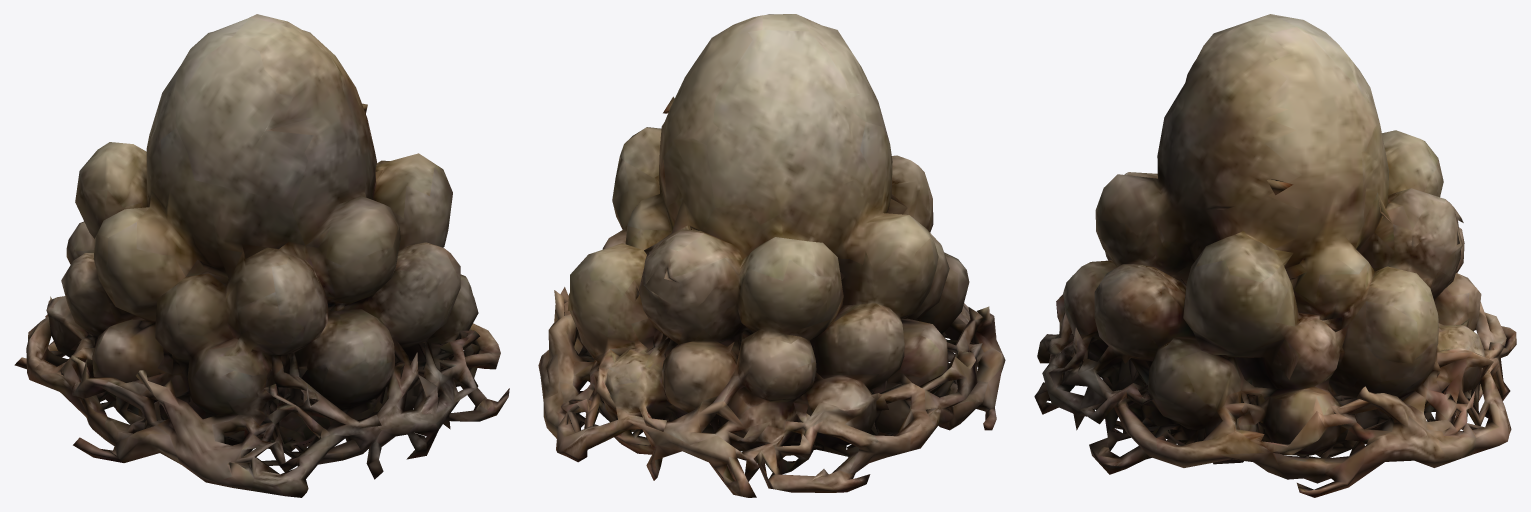
The model's file is p_eggs.glb.
3 views of the same model, side by side, from view 1: azimuth 30°, elevation 25°; view 2: azimuth 150°, elevation 25°; view 3: azimuth 270°, elevation 25° (orthographic).
Visible parts, largest first — view 1: tripo_node_46782ae6-7911-4fb5-8575-c17d8e8be9b3; view 2: tripo_node_46782ae6-7911-4fb5-8575-c17d8e8be9b3; view 3: tripo_node_46782ae6-7911-4fb5-8575-c17d8e8be9b3.
Boxes of the visible parts, <box> form: tripo_node_46782ae6-7911-4fb5-8575-c17d8e8be9b3: <box>14,14,509,497</box>; tripo_node_46782ae6-7911-4fb5-8575-c17d8e8be9b3: <box>538,14,1005,497</box>; tripo_node_46782ae6-7911-4fb5-8575-c17d8e8be9b3: <box>1034,14,1516,497</box>.
Size of the model in its own units: 0.9883 by 0.8592 by 1.
Materials: 1 (1 with a texture image).
